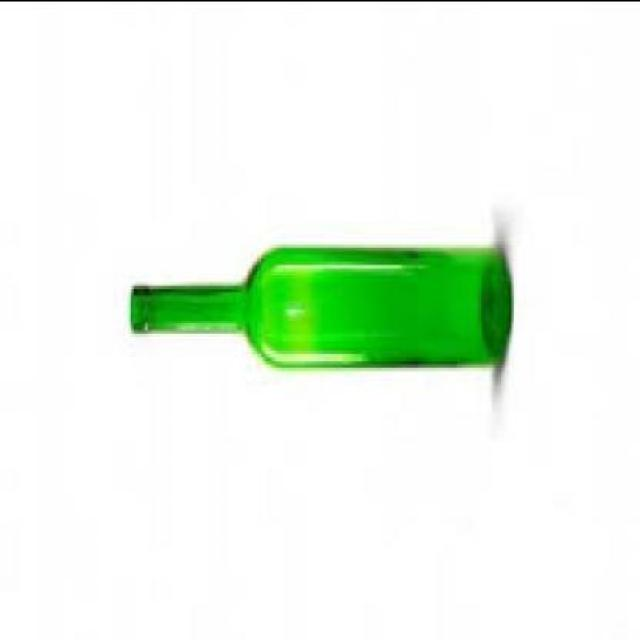GLASS: (128, 239, 509, 359)
